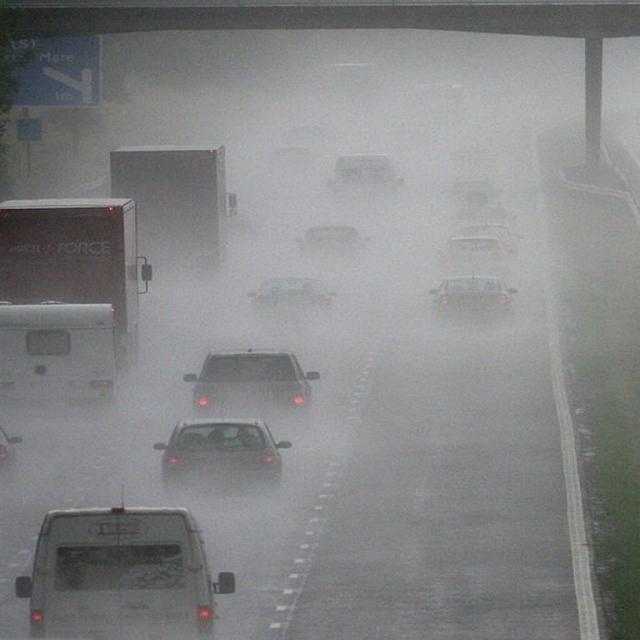bus: (9, 202, 138, 348), (128, 145, 234, 288), (327, 64, 394, 138), (413, 85, 466, 145)
car: (13, 504, 237, 636), (181, 349, 317, 415), (159, 416, 288, 484), (321, 151, 405, 221), (240, 275, 339, 324), (423, 279, 522, 323), (295, 227, 369, 269), (427, 238, 517, 268), (448, 201, 518, 224)
